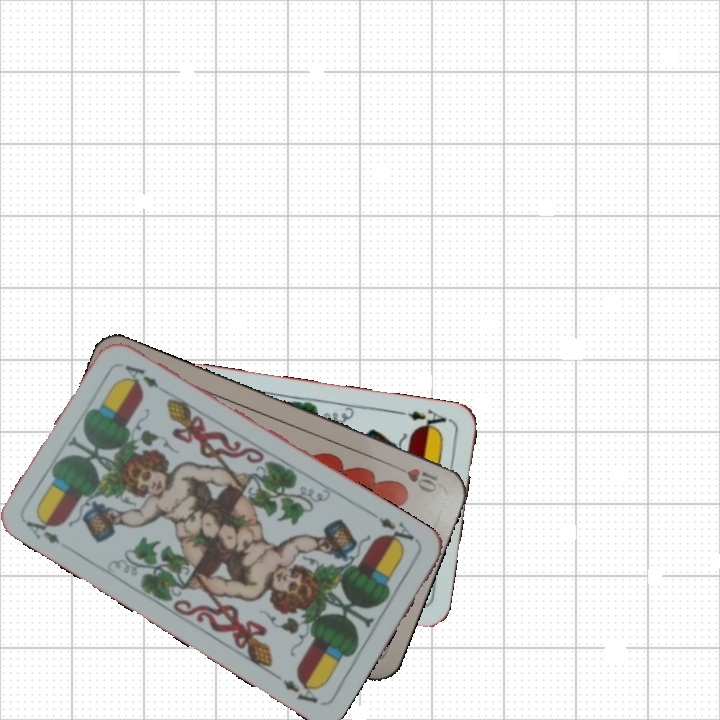EA: (374, 513, 421, 552), (393, 405, 452, 434), (22, 510, 63, 547)
H10: (387, 459, 441, 496)
